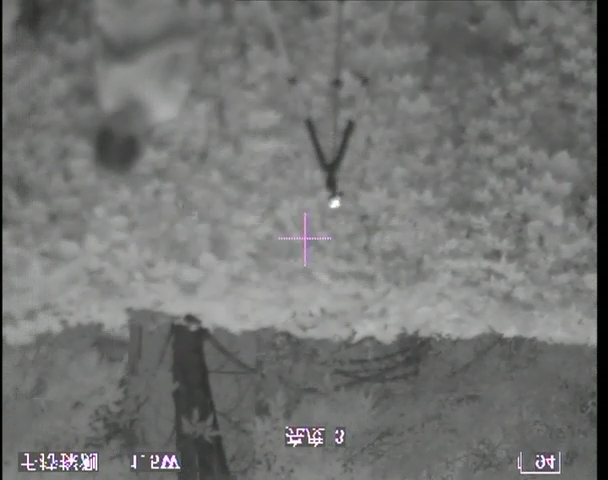my: (327, 197, 340, 209)
